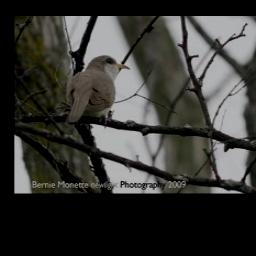Cuckoo: (64, 54, 129, 127)
